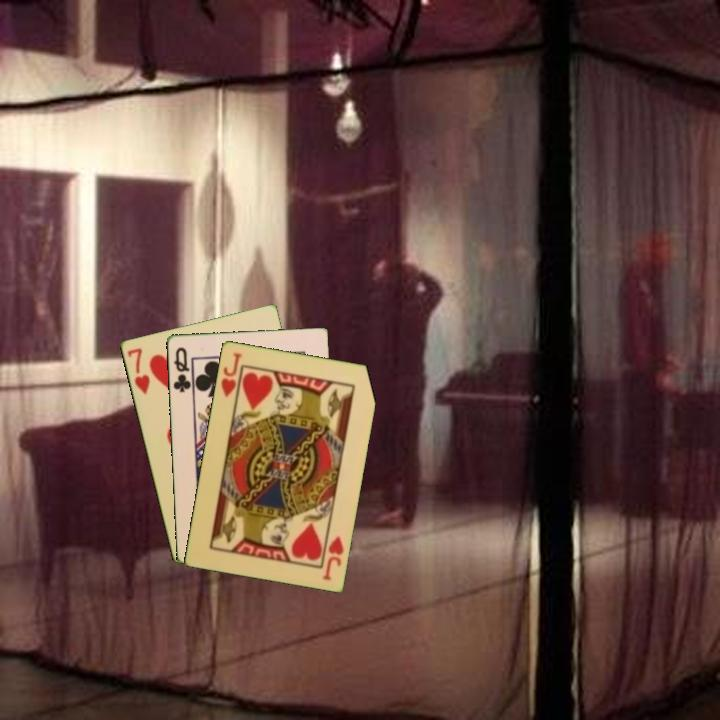7h: (123, 344, 152, 397)
Jh: (319, 532, 346, 583), (217, 349, 244, 399)
Qc: (169, 343, 194, 395)
